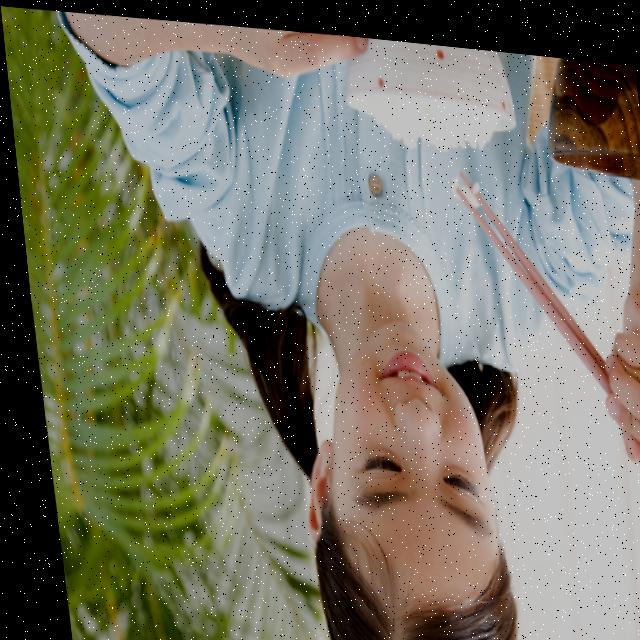eating-person: (66, 5, 640, 640)
